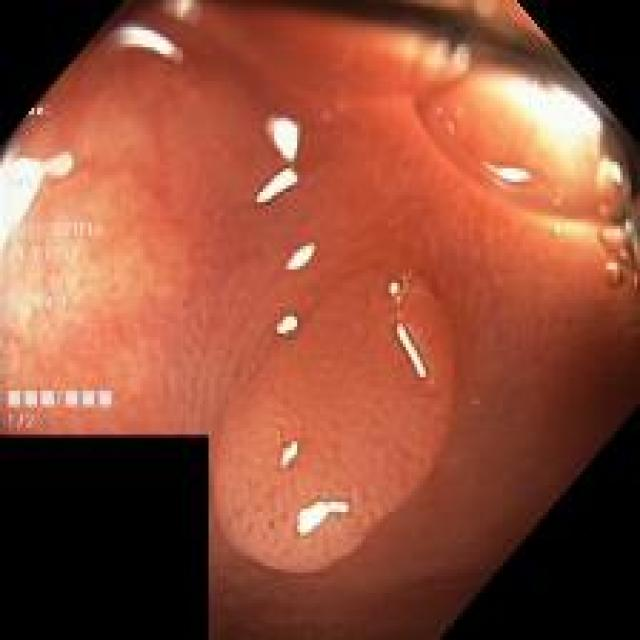Polyps: (214, 274, 456, 574)
